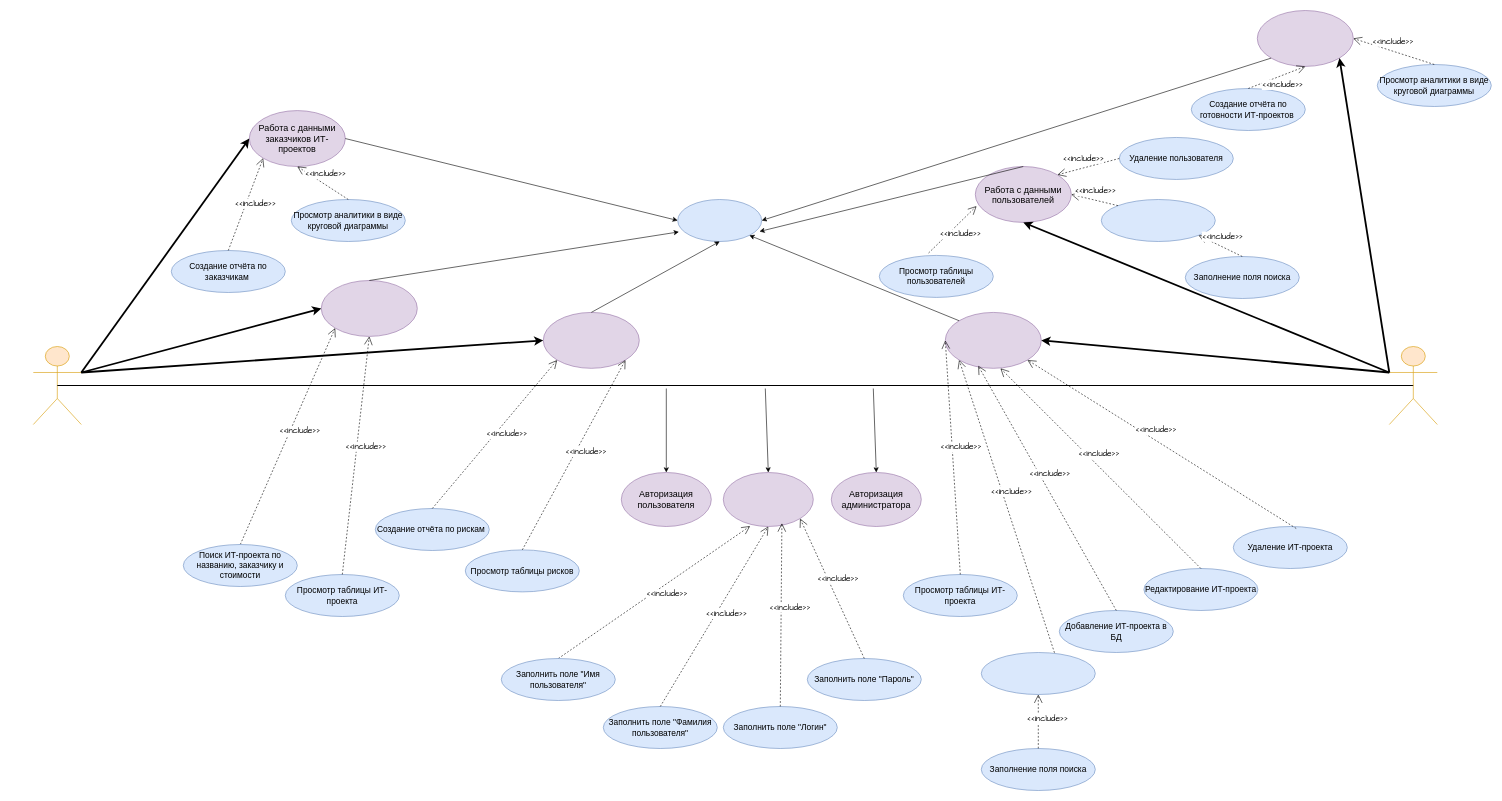
Some shapes in this 1502 by 801 pixel diagram are drawn without their labels. The centre of each missing label's shape, as x and y in pixels:
Администратор: (x=1413, y=385)
Выйти: (x=719, y=220)
Поиск ИТ-проекта по названию, заказчику: (x=1038, y=673)
Поиск пользователя по имени и фамилии: (x=1158, y=220)
Пользователь: (x=57, y=385)
Работа с данными готовности ИТ-проектов: (x=1305, y=38)
Работа с данными ИТ-проектов: (x=993, y=340)
Работа с данными об ИТ-проектах: (x=369, y=308)
Работа с данными отчётности: (x=591, y=340)
Регистрация пользователя: (x=768, y=499)
